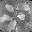people: (4, 4, 15, 13), (8, 20, 17, 31), (17, 13, 26, 21), (0, 14, 8, 22), (5, 15, 14, 21)
